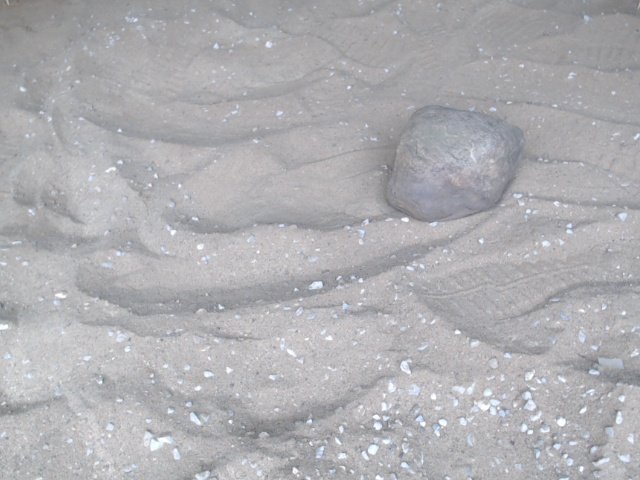rock: (379, 97, 532, 228)
